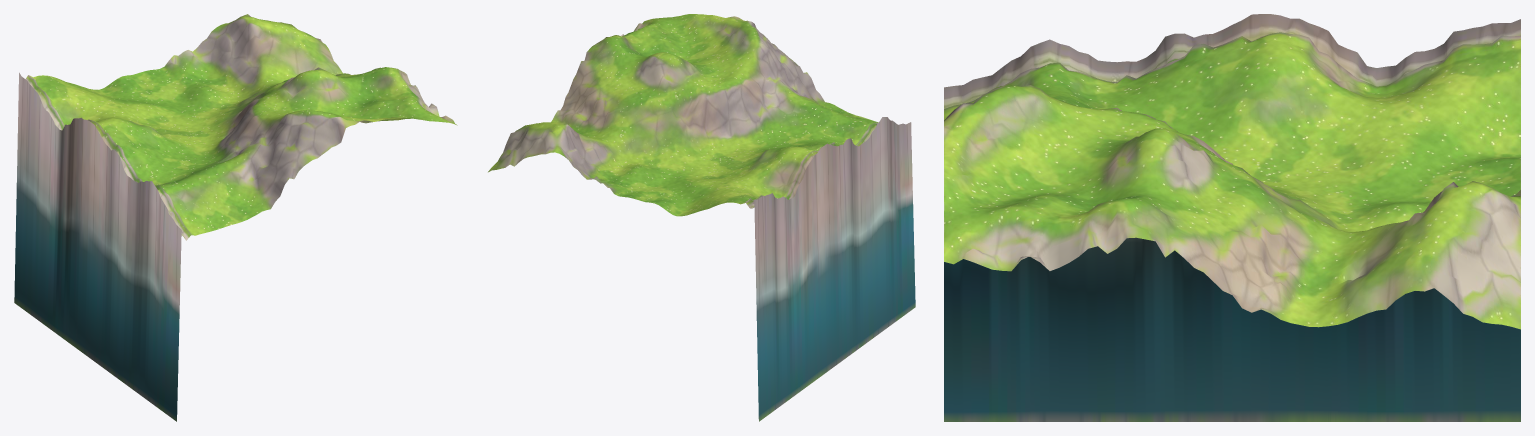
3 views of the same model, side by side, from view 1: azimuth 30°, elevation 25°; view 2: azimuth 150°, elevation 25°; view 3: azimuth 270°, elevation 25° (orthographic). The views are drawn at different scales.
Visible parts, largest first — view 1: t000_128; view 2: t000_128; view 3: t000_128.
Part boxes in pixels (x1,y1,x2,y2): t000_128: [14, 14, 457, 421]; t000_128: [488, 14, 915, 421]; t000_128: [944, 14, 1520, 421].
Size of the model in its own units: 64 by 56.81 by 64.
1 material, 1 textured.
